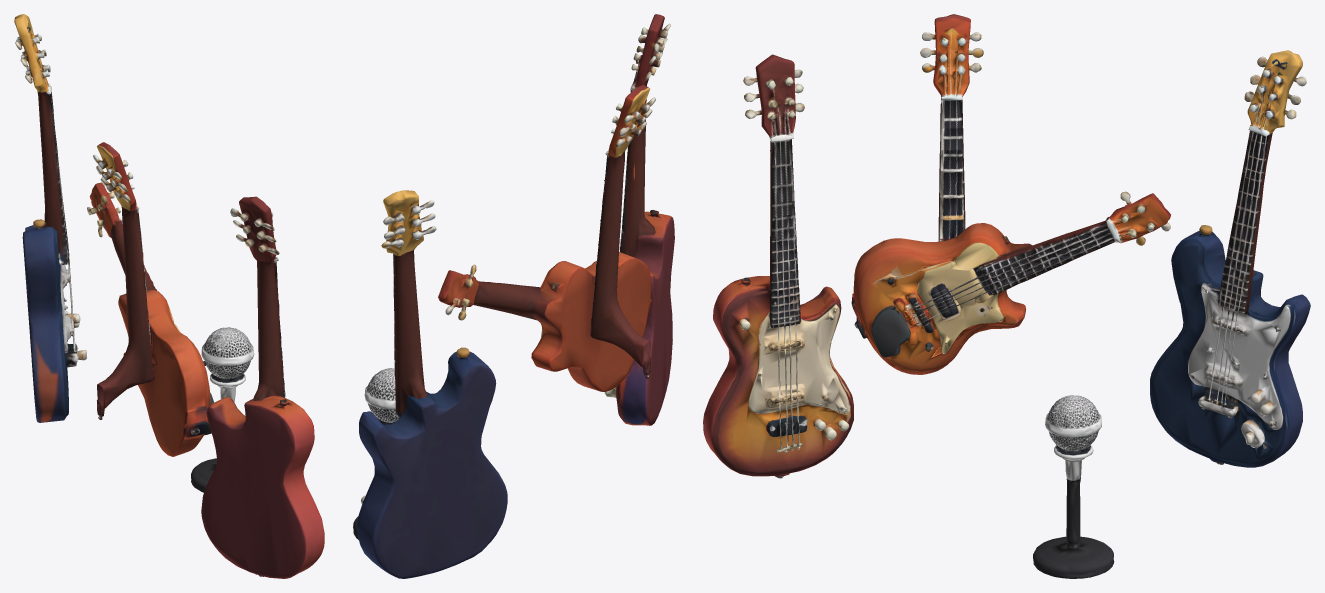
Rendered from tripo_h31_mannequin_musical_instruments_kit.glb.
The picture shows the model from 3 angles, left to right: view 1: azimuth 30°, elevation 25°; view 2: azimuth 150°, elevation 25°; view 3: azimuth 270°, elevation 25°; orthographic projection. The views are drawn at different scales.
Parts seen in each view (by area): view 1: tripo_node_1782ba42-75ff-47f9-8e15-6385e71fd309; view 2: tripo_node_1782ba42-75ff-47f9-8e15-6385e71fd309; view 3: tripo_node_1782ba42-75ff-47f9-8e15-6385e71fd309.
Part boxes in pixels (x1,y1,x2,y2): tripo_node_1782ba42-75ff-47f9-8e15-6385e71fd309: (14, 14, 324, 578); tripo_node_1782ba42-75ff-47f9-8e15-6385e71fd309: (353, 14, 674, 578); tripo_node_1782ba42-75ff-47f9-8e15-6385e71fd309: (703, 14, 1310, 578).
Bounding box in the file's own units: 0.4393 × 0.8112 × 0.9795.
1 material, 1 textured.
